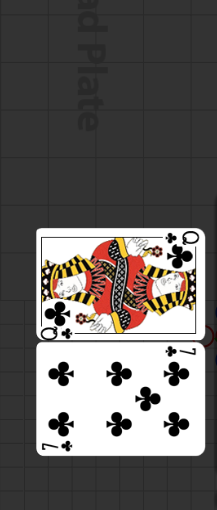7C: (163, 344, 198, 359)
QC: (36, 295, 83, 339), (157, 228, 203, 272)
